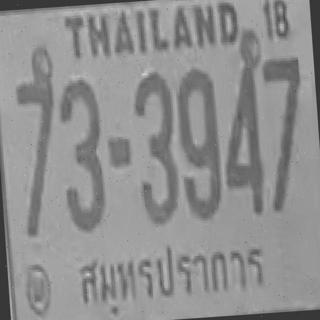N03: (56, 78, 106, 231), (130, 70, 179, 223)
N04: (216, 59, 264, 215)
N07: (261, 55, 304, 149)
N09: (173, 68, 222, 219)
P57: (69, 233, 272, 320)
